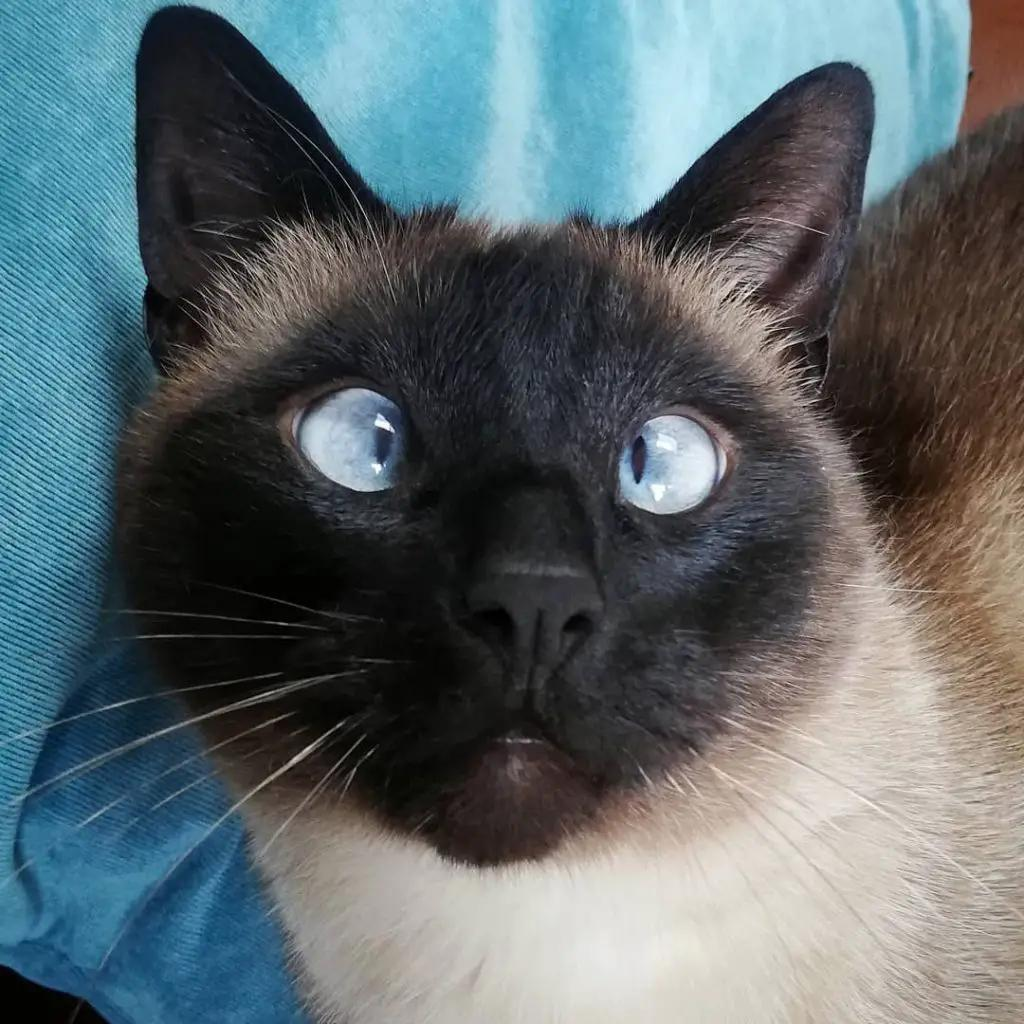siamese: (98, 1, 892, 892)
